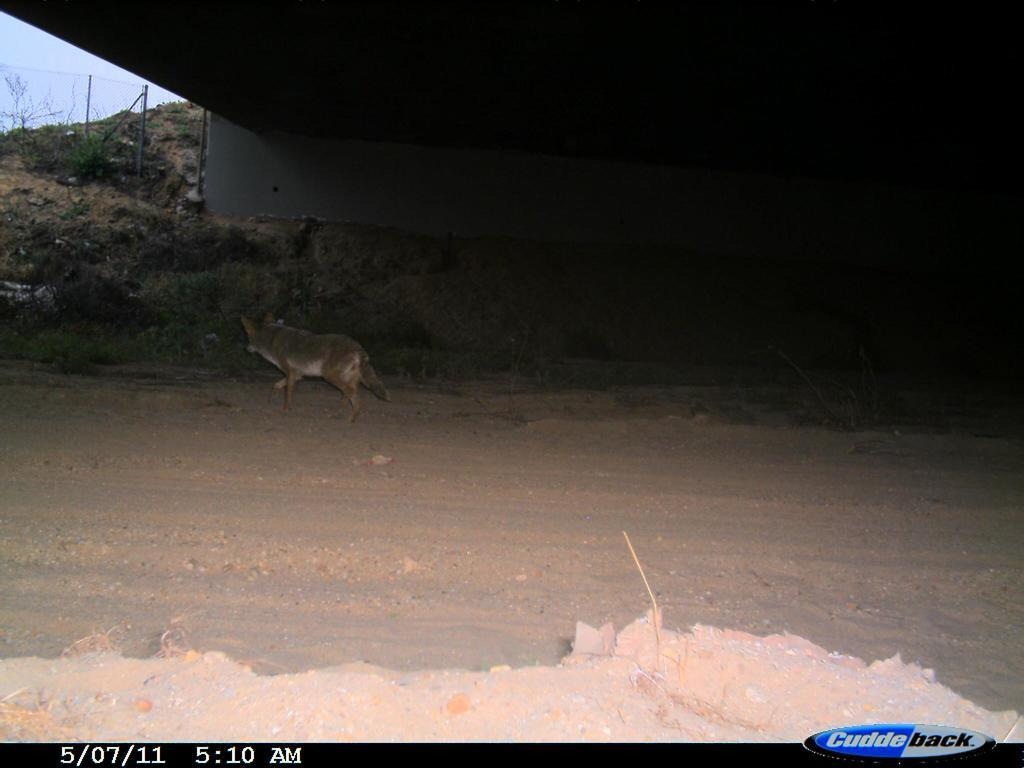coyote: (235, 304, 400, 434)
